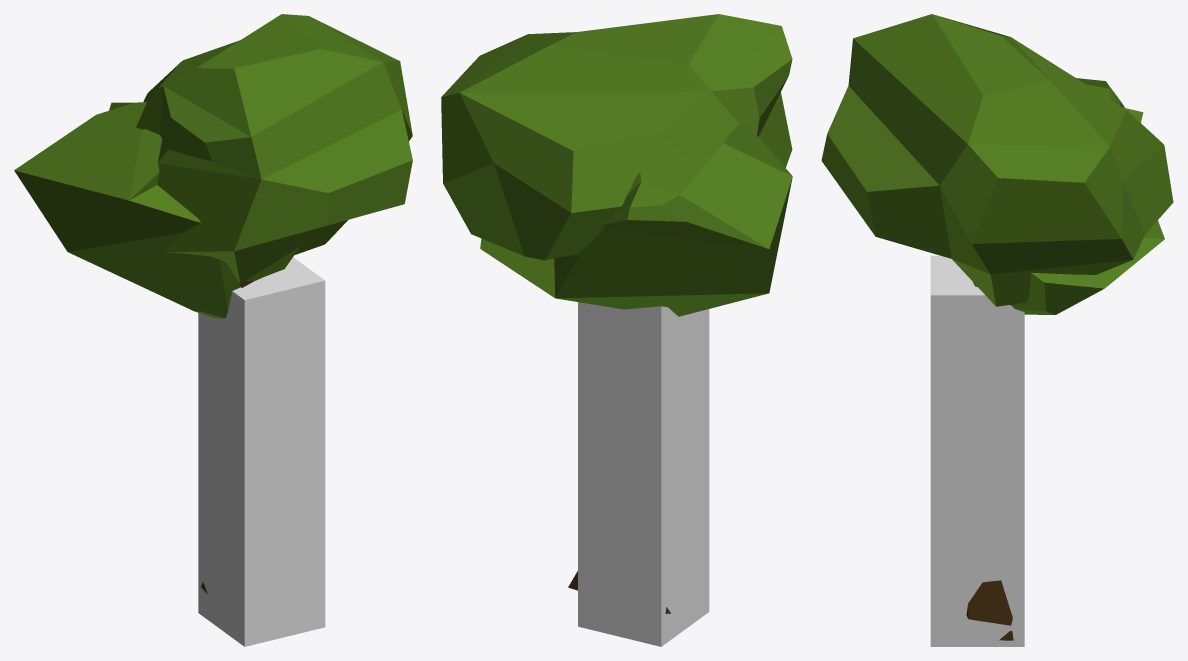
Rendered from Tree2.glb.
3 views of the same model, side by side, from view 1: azimuth 30°, elevation 25°; view 2: azimuth 150°, elevation 25°; view 3: azimuth 270°, elevation 25° (orthographic). The views are drawn at different scales.
Visible parts, largest first — view 1: Model.001, Cube-colonly.001, Model; view 2: Model.001, Cube-colonly.001, Model; view 3: Model.001, Cube-colonly.001, Model.
Part boxes in pixels (x1,y1,x2,y2): Model.001: (136,14,412,287); Cube-colonly.001: (198,257,325,646); Model: (14,102,300,594); Model.001: (441,14,792,590); Cube-colonly.001: (578,302,709,646); Model: (480,122,792,613); Model.001: (821,14,1173,625); Cube-colonly.001: (930,255,1024,646); Model: (973,78,1164,640).
Size of what is drawn, in the model's own units: 5.27 by 8.77 by 4.76.
